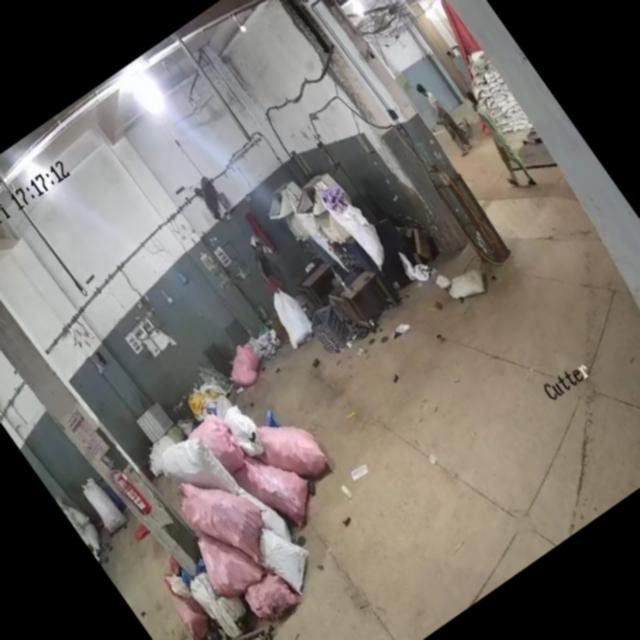person: (456, 90, 536, 194), (410, 72, 480, 160), (240, 232, 302, 310)
